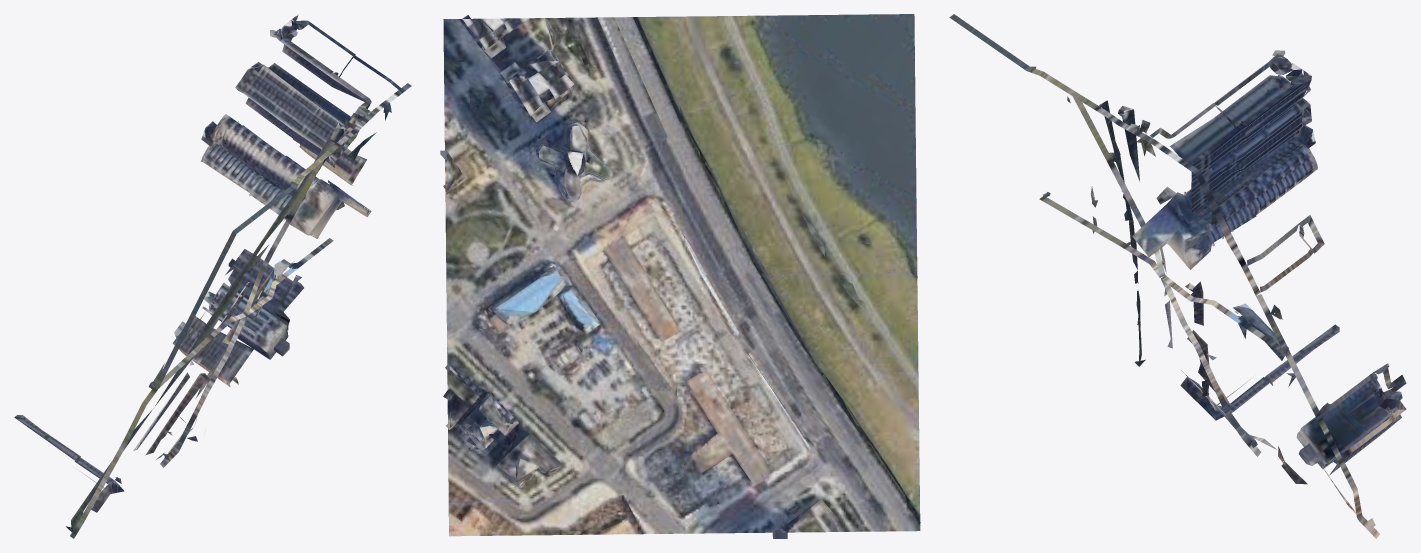
3 views of the same model, side by side, from view 1: azimuth 30°, elevation 25°; view 2: azimuth 150°, elevation 25°; view 3: azimuth 270°, elevation 25° (orthographic). The views are drawn at different scales.
Size of the model in its own units: 307 by 321 by 279.
1 material, 1 textured.
